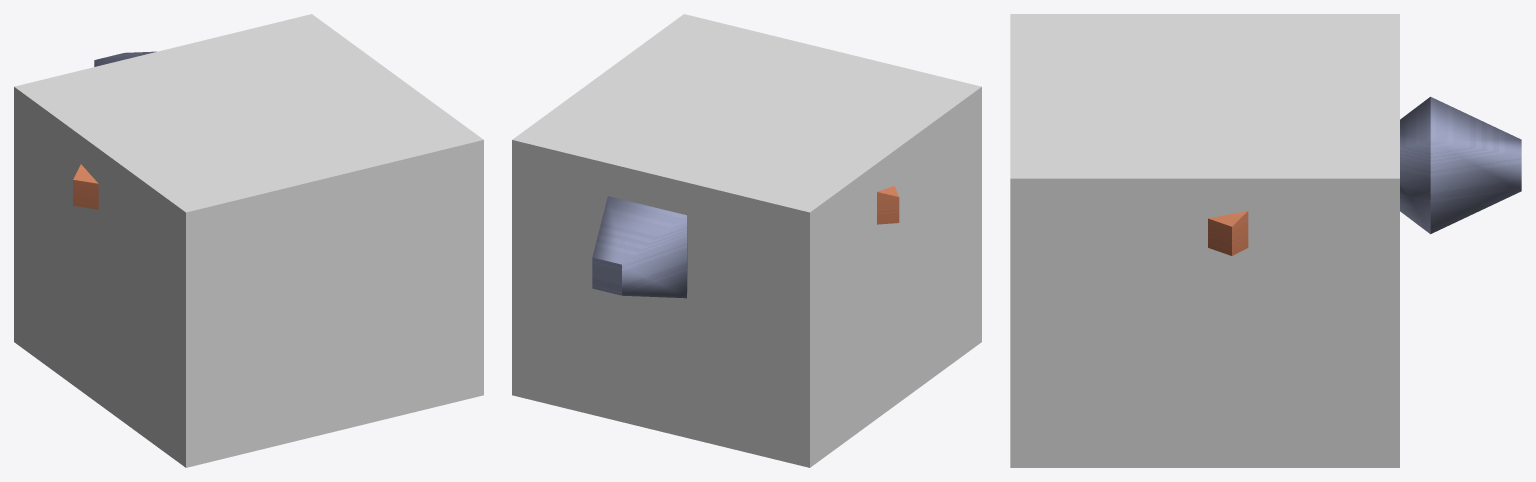
Rendered from base_reference.glb.
The picture shows the model from 3 angles, left to right: view 1: azimuth 30°, elevation 25°; view 2: azimuth 150°, elevation 25°; view 3: azimuth 270°, elevation 25°; orthographic projection. The views are drawn at different scales.
Parts seen in each view (by area): view 1: COL_BOX_01.001, arrow; view 2: COL_BOX_01.001, arrow; view 3: COL_BOX_01.001, arrow.
Part boxes in pixels (left/top/right/bottom): COL_BOX_01.001: left=14, top=14, right=483, bottom=467; arrow: left=73, top=51, right=156, bottom=209; COL_BOX_01.001: left=512, top=14, right=981, bottom=467; arrow: left=592, top=186, right=899, bottom=298; COL_BOX_01.001: left=1010, top=14, right=1399, bottom=467; arrow: left=1208, top=96, right=1521, bottom=255.
Size of the model in its own units: 1.33 by 0.9859 by 1.58.
Materials: 1 (1 with a texture image).
